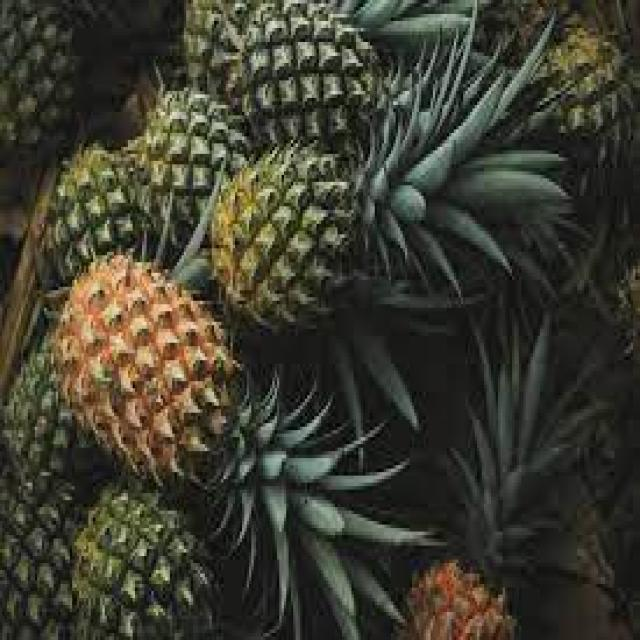Wet: (0, 4, 640, 636), (46, 253, 420, 640), (340, 2, 606, 288), (438, 289, 640, 574)
